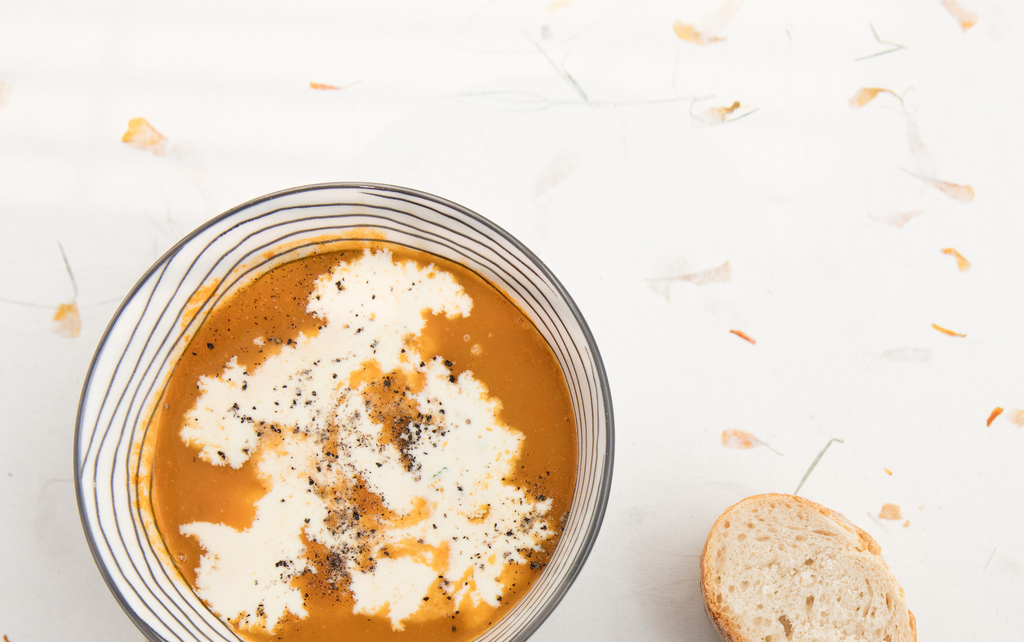slice of bread: (680, 482, 921, 642)
